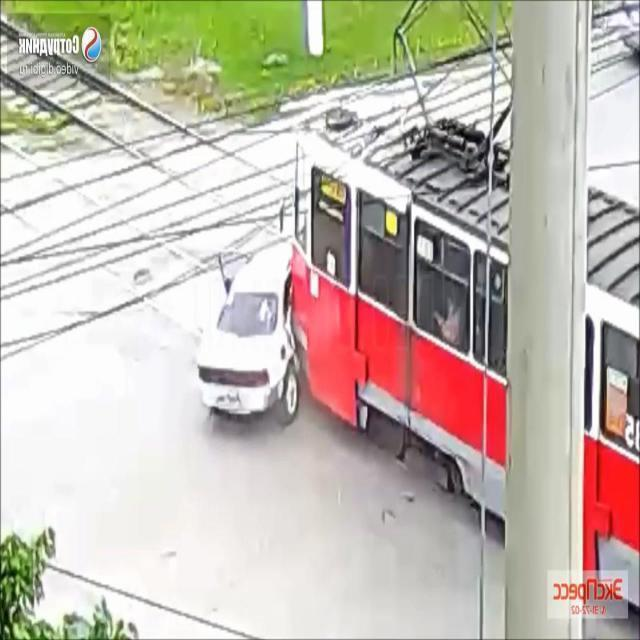accident: (195, 110, 640, 612)
